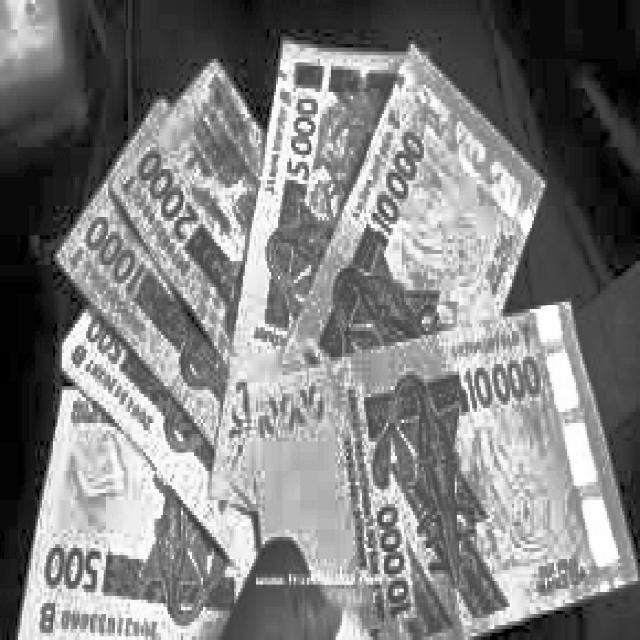junni: (215, 43, 401, 499)
niaar junni: (240, 302, 638, 636), (288, 44, 545, 353)
niaar teemeer: (55, 98, 225, 443)
nient teemeer: (112, 60, 264, 359)
teemeer: (21, 387, 243, 637), (60, 306, 258, 572)
